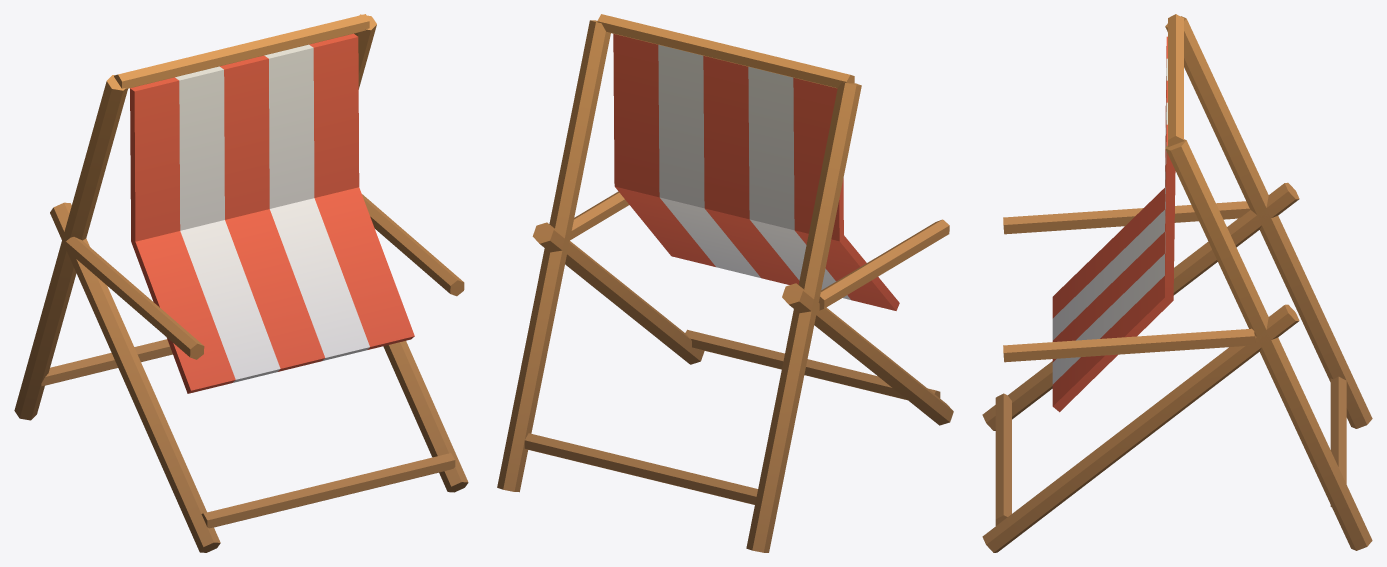
Rendered from hz_deckchair.glb.
The picture shows the model from 3 angles, left to right: view 1: azimuth 30°, elevation 25°; view 2: azimuth 150°, elevation 25°; view 3: azimuth 270°, elevation 25°; orthographic projection.
Visible parts, largest first — view 1: hz_deckchair; view 2: hz_deckchair; view 3: hz_deckchair.
Part boxes in pixels (x1,y1,x2,y2): hz_deckchair: [14, 14, 468, 552]; hz_deckchair: [497, 14, 953, 552]; hz_deckchair: [982, 14, 1372, 552].
Bounding box in the file's own units: 0.6857 × 0.9891 × 0.8392.
